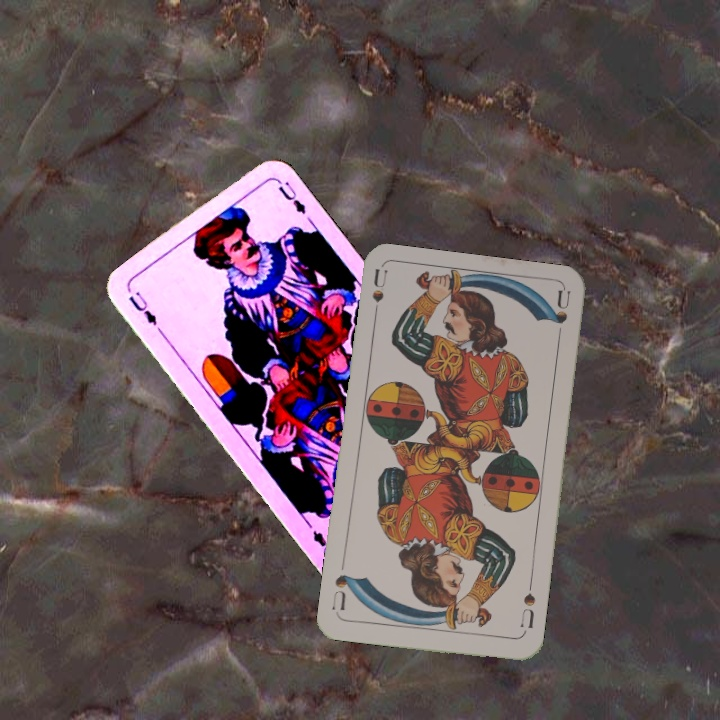EU: (125, 287, 160, 329)
SU: (368, 267, 390, 326), (516, 578, 538, 631)
